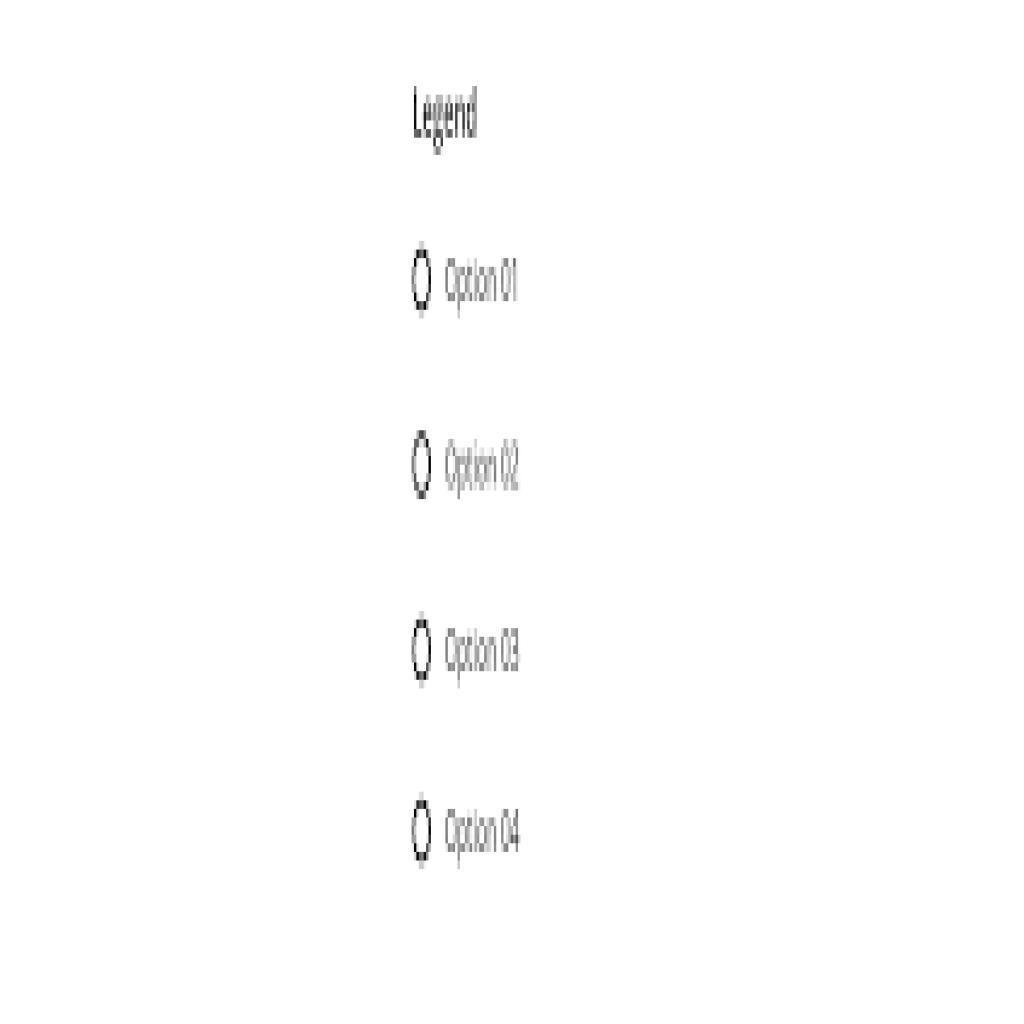radio: (409, 786, 435, 879), (411, 606, 436, 700), (410, 427, 436, 513), (410, 239, 435, 327)
